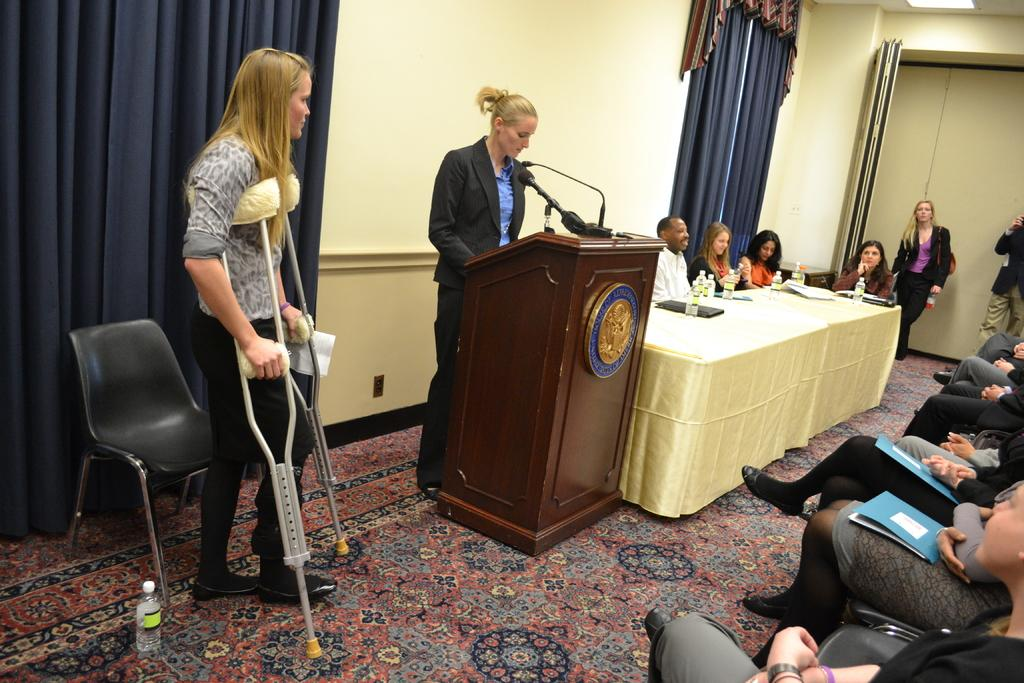crutches: (170, 39, 358, 664)
